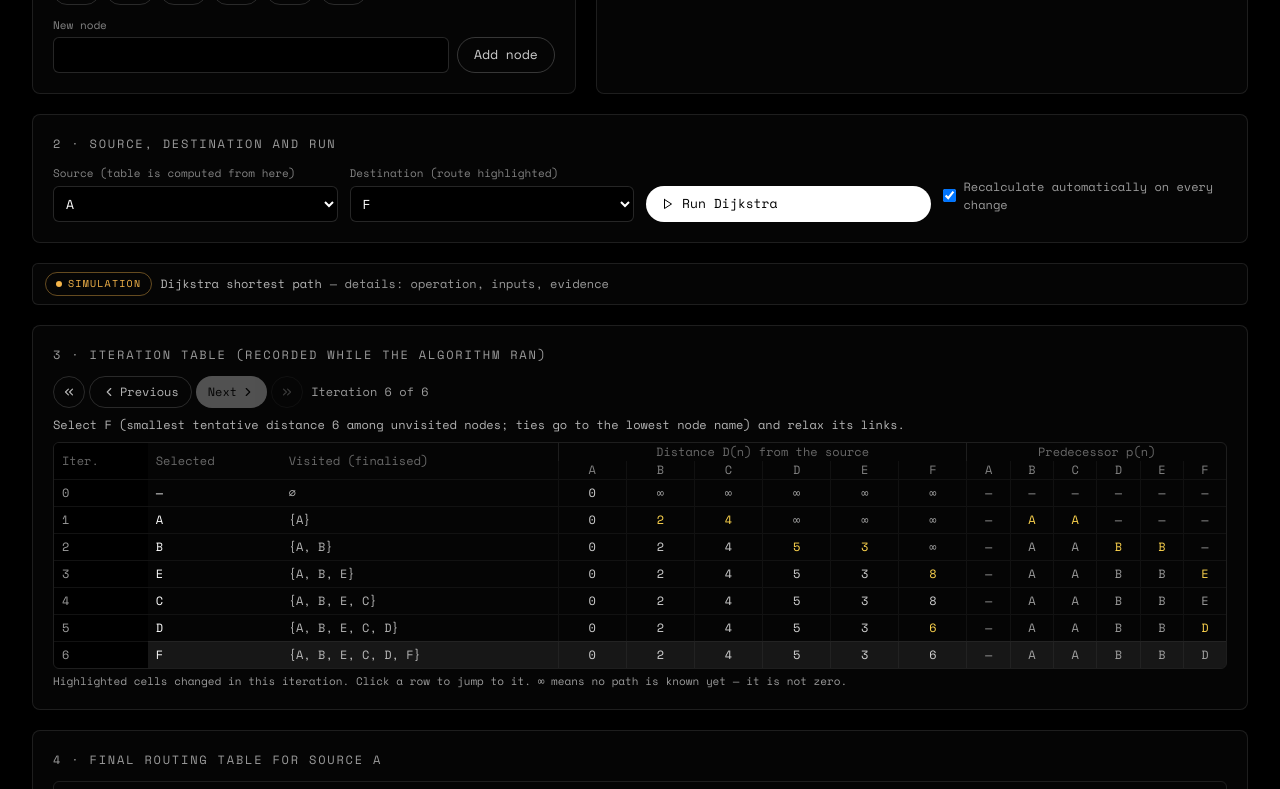
Test: Dijkstra lab — iteration table › shows ∞ for unknown distances and a real 0 for the source
This screenshot has width=1280, height=789.
(page scrolled)
Expected: the table named "Dijkstra iteration table" is shown, [54, 442, 1226, 668]
Click the button named "First iteration". click: (69, 392)
box: [53, 376, 85, 408]
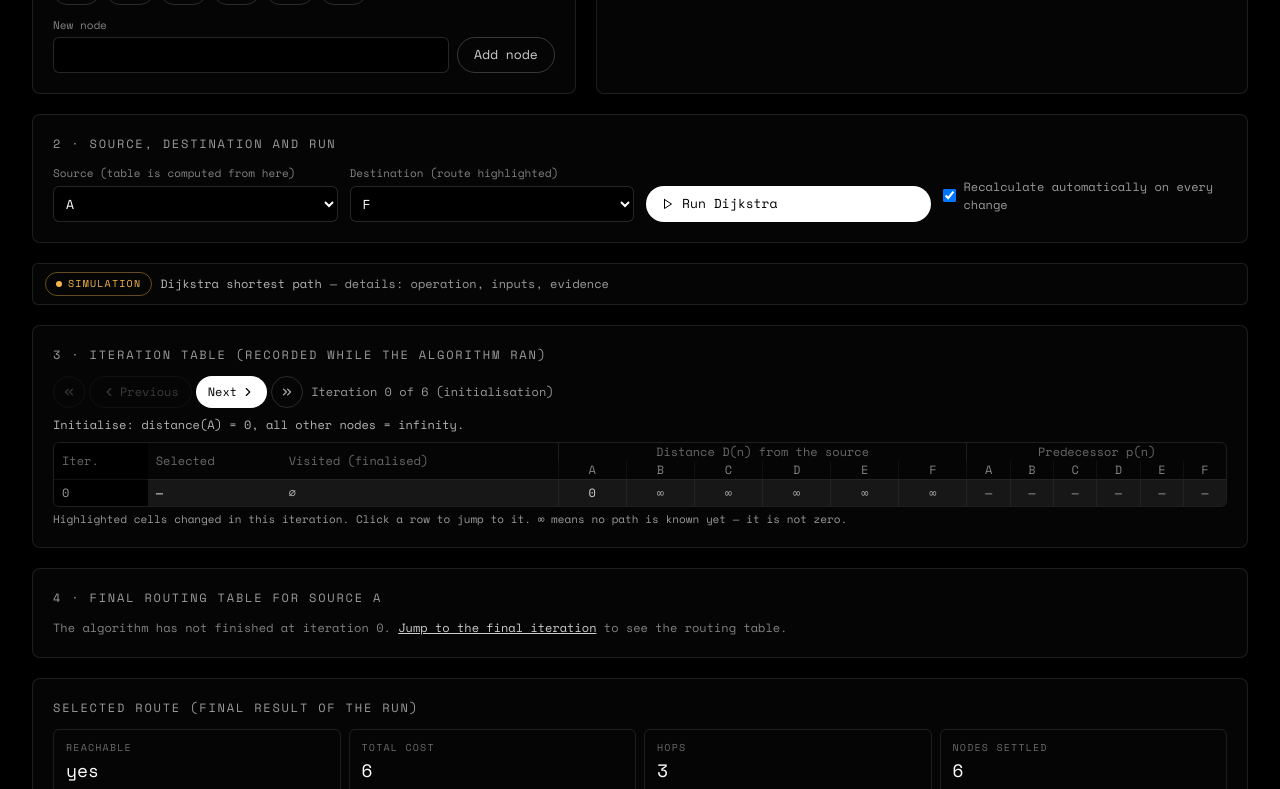
Expected: the 2nd cell "0" is shown, [558, 479, 626, 506]
Expected: the text "∞" is shown 5 times, [626, 479, 694, 506]; [694, 479, 762, 506]; [762, 479, 831, 506]; [831, 479, 899, 506]; [899, 479, 967, 506]
Expected: the text with test id "step-note" shows "Initialise", [53, 416, 464, 432]
